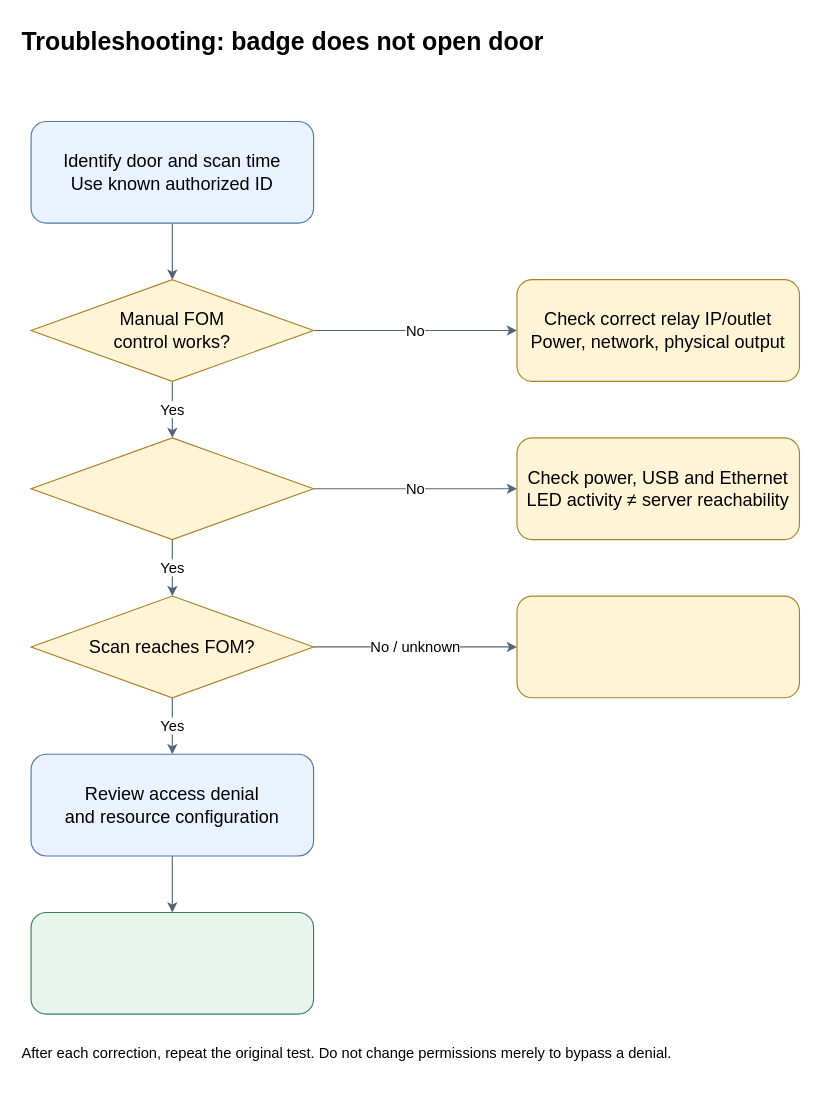
Some shapes in this 829 by 1119 pixel diagram are drawn without their labels. The centre of each missing label's shape, as x and y in pixels:
"Check EasyLog/network path Record screen errors for support" belongs at point (657, 646).
"Power and link OK?" belongs at point (172, 488).
"Retest and record outcome Escalate unresolved fault" belongs at point (172, 962).
